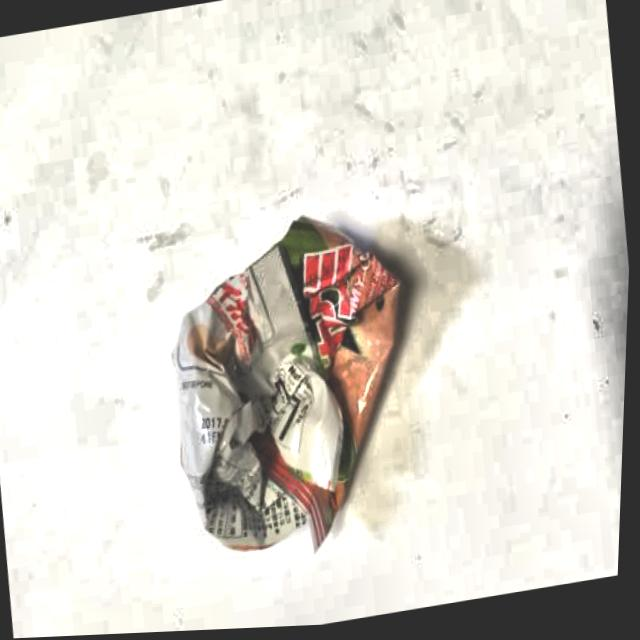Plastic: (134, 150, 486, 596)
